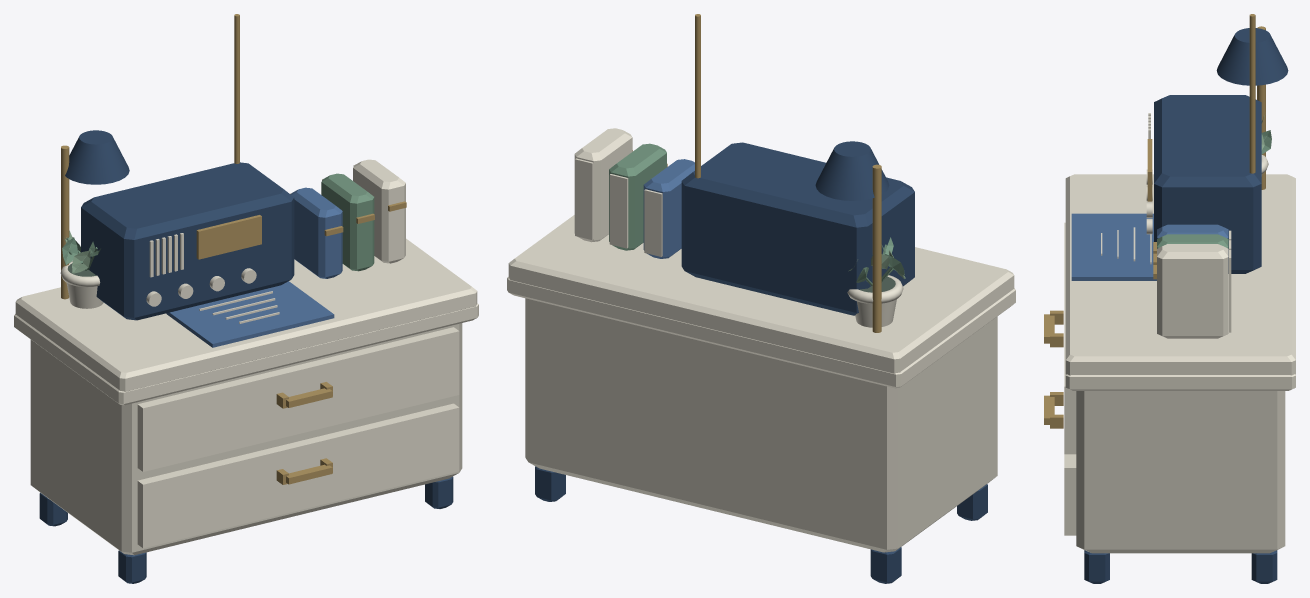
The model's file is v18_special_radio_console.glb.
The picture shows the model from 3 angles, left to right: view 1: azimuth 30°, elevation 25°; view 2: azimuth 150°, elevation 25°; view 3: azimuth 270°, elevation 25°; orthographic projection. The views are drawn at different scales.
Visible parts, largest first — view 1: _MeshInstance3D_4954, _MeshInstance3D_4955, _MeshInstance3D_4946, _MeshInstance3D_4950, _MeshInstance3D_4944, _MeshInstance3D_4945, _MeshInstance3D_4977, _MeshInstance3D_4968, _MeshInstance3D_4974, _MeshInstance3D_4971, _MeshInstance3D_5010, _MeshInstance3D_4956 (+6 smaller); view 2: _MeshInstance3D_4944, _MeshInstance3D_4954, _MeshInstance3D_4955, _MeshInstance3D_4945, _MeshInstance3D_5010, _MeshInstance3D_4974, _MeshInstance3D_4971, _MeshInstance3D_4968, _MeshInstance3D_5009, _MeshInstance3D_4976, _MeshInstance3D_4973, _MeshInstance3D_4970 (+5 smaller); view 3: _MeshInstance3D_4944, _MeshInstance3D_4954, _MeshInstance3D_4955, _MeshInstance3D_4974, _MeshInstance3D_4977, _MeshInstance3D_4945, _MeshInstance3D_5010, _MeshInstance3D_4950, _MeshInstance3D_4967, _MeshInstance3D_4946, _MeshInstance3D_4942, _MeshInstance3D_4943 (+4 smaller).
Part boxes in pixels (bbox=[...]): _MeshInstance3D_4954: bbox=[15, 238, 477, 391]; _MeshInstance3D_4955: bbox=[81, 162, 294, 320]; _MeshInstance3D_4946: bbox=[137, 403, 459, 548]; _MeshInstance3D_4950: bbox=[137, 327, 459, 471]; _MeshInstance3D_4944: bbox=[30, 323, 462, 555]; _MeshInstance3D_4945: bbox=[14, 303, 478, 405]; _MeshInstance3D_4977: bbox=[166, 281, 334, 347]; _MeshInstance3D_4968: bbox=[291, 187, 342, 278]; _MeshInstance3D_4974: bbox=[353, 159, 405, 263]; _MeshInstance3D_4971: bbox=[321, 173, 374, 271]; _MeshInstance3D_5010: bbox=[65, 130, 129, 184]; _MeshInstance3D_4956: bbox=[196, 215, 261, 259]; _MeshInstance3D_4944: bbox=[525, 298, 997, 552]; _MeshInstance3D_4954: bbox=[508, 215, 1014, 373]; _MeshInstance3D_4955: bbox=[681, 142, 914, 315]; _MeshInstance3D_4945: bbox=[507, 277, 1015, 388]; _MeshInstance3D_5010: bbox=[815, 141, 889, 200]; _MeshInstance3D_4974: bbox=[574, 128, 632, 242]; _MeshInstance3D_4971: bbox=[609, 143, 666, 250]; _MeshInstance3D_4968: bbox=[643, 159, 694, 258]; _MeshInstance3D_5009: bbox=[872, 164, 881, 332]; _MeshInstance3D_4976: bbox=[575, 158, 593, 239]; _MeshInstance3D_4973: bbox=[609, 174, 628, 248]; _MeshInstance3D_4970: bbox=[644, 189, 662, 256]; _MeshInstance3D_4944: bbox=[1076, 391, 1285, 553]; _MeshInstance3D_4954: bbox=[1065, 174, 1295, 375]; _MeshInstance3D_4955: bbox=[1154, 95, 1261, 273]; _MeshInstance3D_4974: bbox=[1157, 244, 1228, 338]; _MeshInstance3D_4977: bbox=[1071, 213, 1156, 280]; _MeshInstance3D_4945: bbox=[1065, 374, 1295, 390]; _MeshInstance3D_5010: bbox=[1216, 28, 1288, 85]; _MeshInstance3D_4950: bbox=[1064, 222, 1076, 454]; _MeshInstance3D_4967: bbox=[1249, 14, 1255, 173]; _MeshInstance3D_4946: bbox=[1064, 454, 1076, 535]; _MeshInstance3D_4942: bbox=[1251, 550, 1277, 583]; _MeshInstance3D_4943: bbox=[1084, 550, 1109, 583].
Bounding box in the file's own units: 1.33 × 1.65 × 0.7555.
